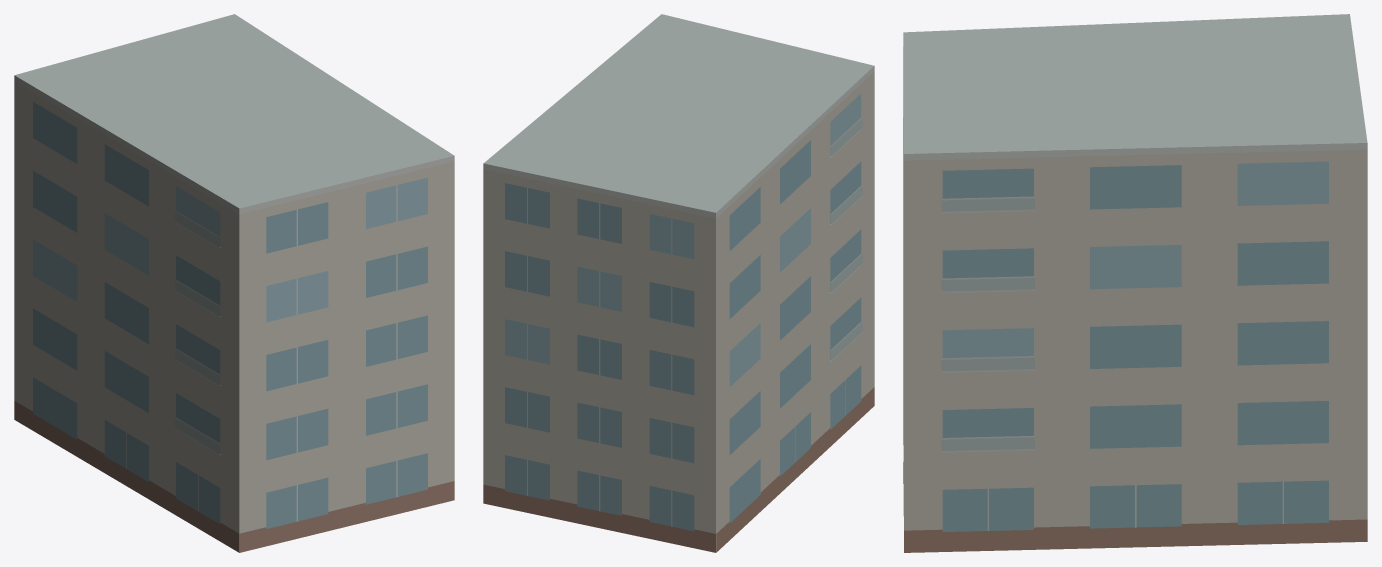
The model's file is survey-upis-32992562.glb.
3 renders of one model, left to right at view 1: azimuth 30°, elevation 25°; view 2: azimuth 150°, elevation 25°; view 3: azimuth 270°, elevation 25°, orthographic. The views are drawn at different scales.
Parts seen in each view (by area): view 1: survey-upis-32992562.tmp; view 2: survey-upis-32992562.tmp; view 3: survey-upis-32992562.tmp.
Boxes of the visible parts, <box> form: survey-upis-32992562.tmp: <box>14,14,454,552</box>; survey-upis-32992562.tmp: <box>483,14,874,552</box>; survey-upis-32992562.tmp: <box>903,14,1367,552</box>.
Bounding box in the file's own units: 11 × 14.6 × 15.41.
